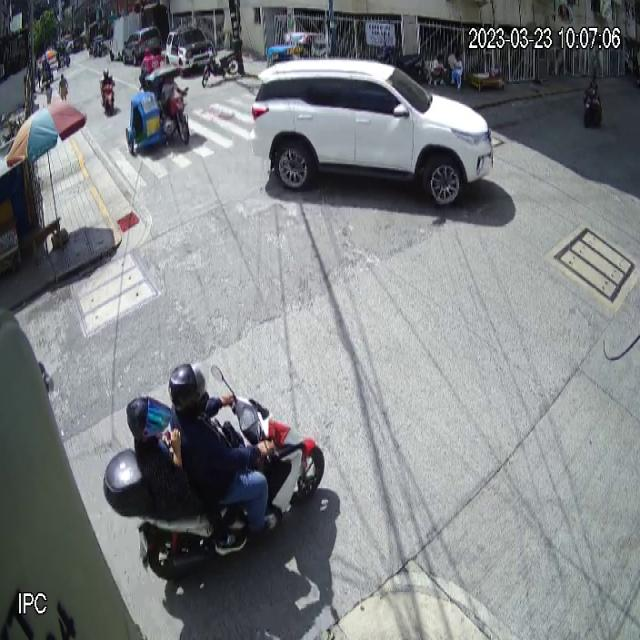Car: (250, 56, 493, 209)
Motorcycle: (105, 364, 326, 582), (100, 77, 116, 117)
Tricycle: (124, 66, 190, 158)
